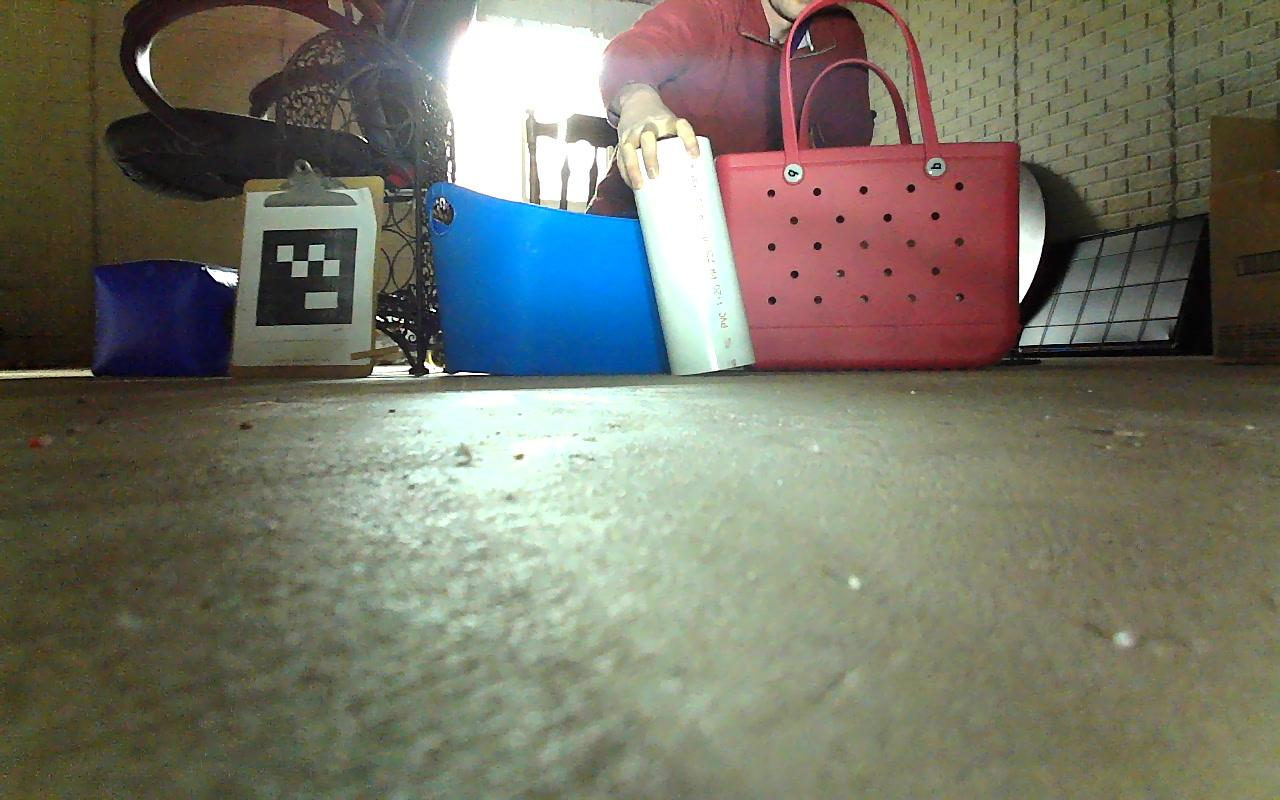coral: (630, 135, 756, 375)
